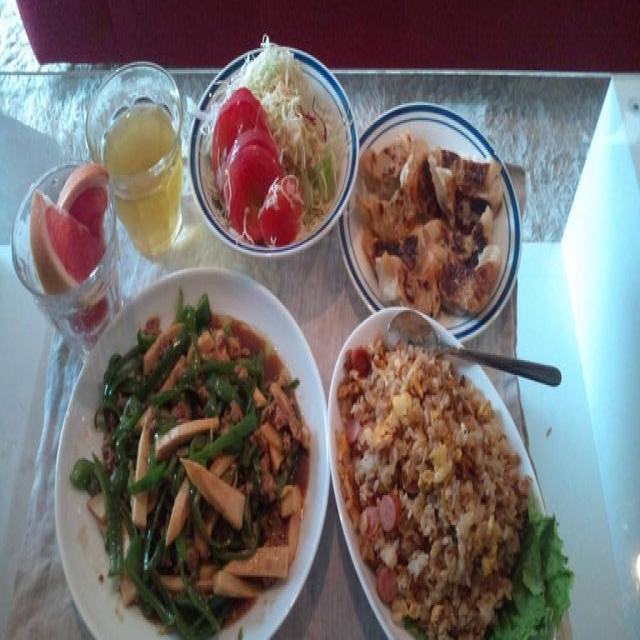Green Salad: (200, 36, 342, 232)
